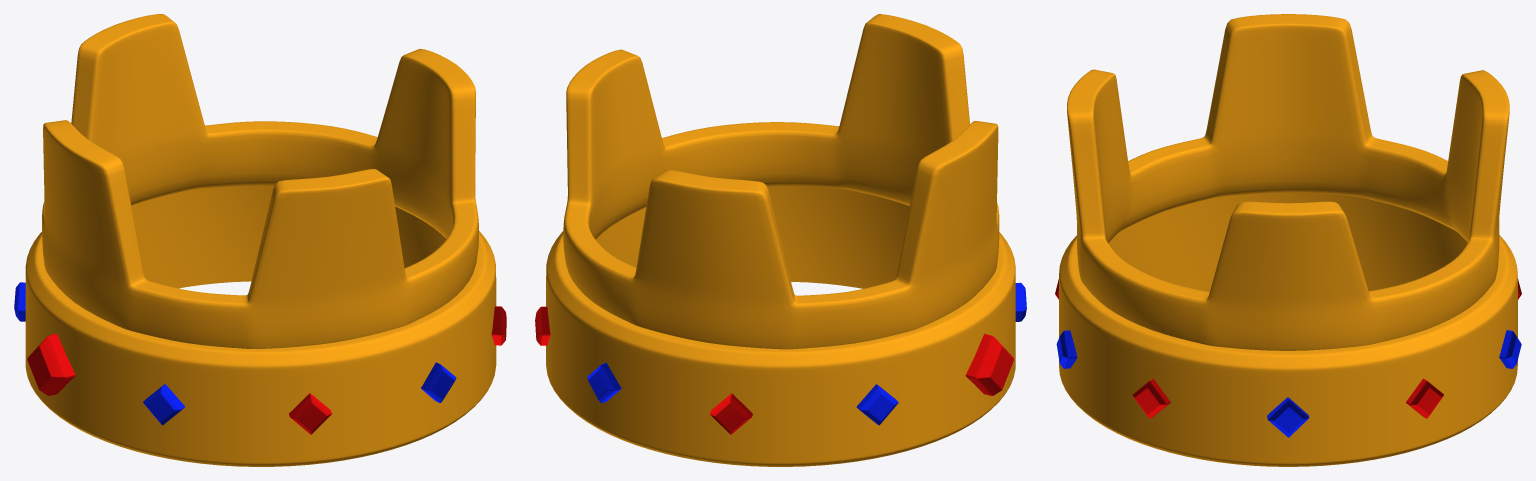
File: Crown_F.fbx
3 renders of one model, left to right at view 1: azimuth 30°, elevation 25°; view 2: azimuth 150°, elevation 25°; view 3: azimuth 270°, elevation 25°, orthographic. The views are drawn at different scales.
Parts seen in each view (by area): view 1: pCylinder2; view 2: pCylinder2; view 3: pCylinder2.
Boxes of the visible parts, bbox=[...] form: pCylinder2: bbox=[14, 14, 506, 466]; pCylinder2: bbox=[535, 14, 1026, 466]; pCylinder2: bbox=[1055, 14, 1521, 466].
Bounding box in the file's own units: 13.88 × 8.3 × 13.18.
